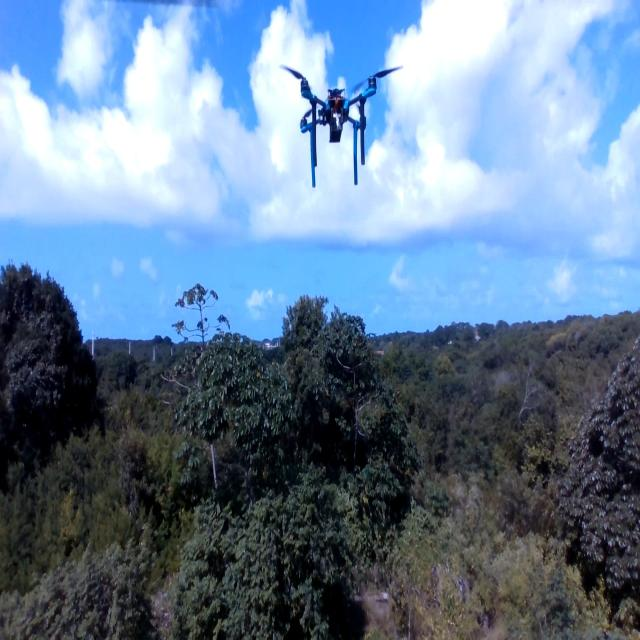-uav-: (269, 40, 408, 213)
